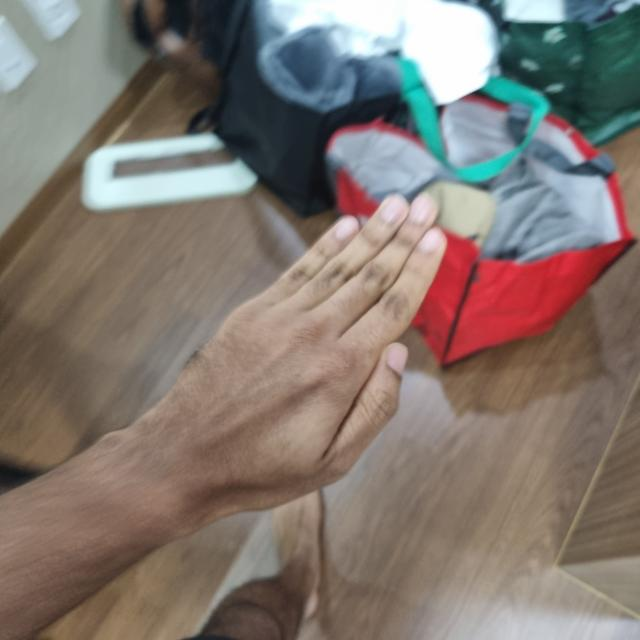Paper: (153, 202, 438, 508)
